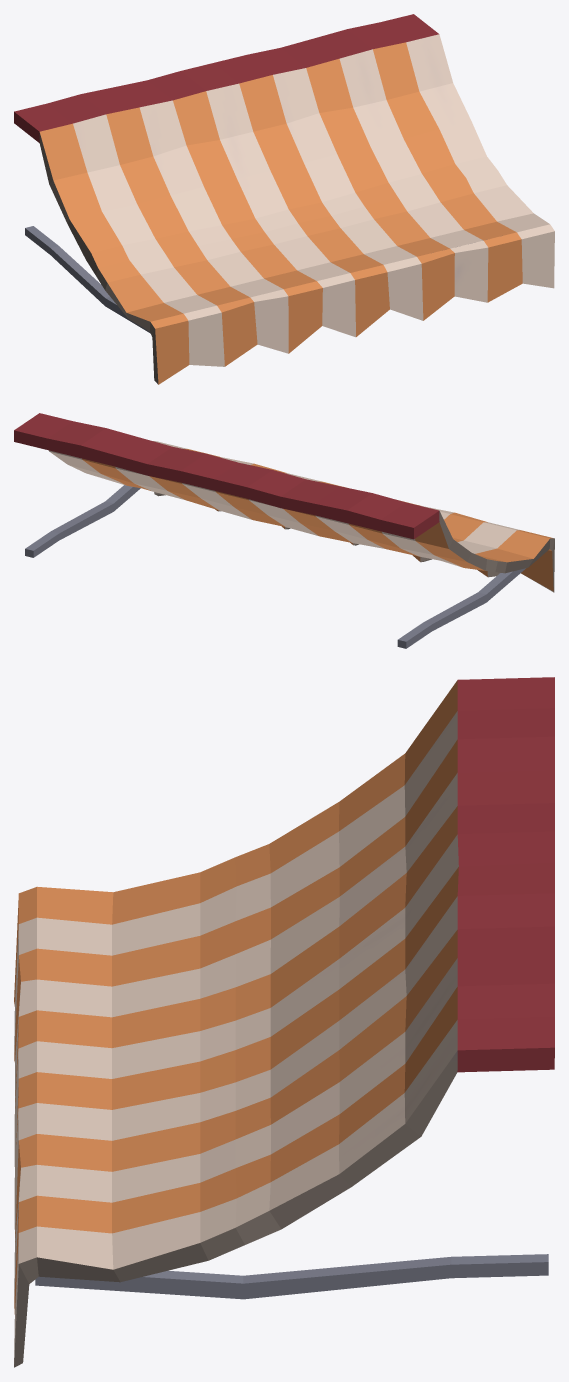
The model's file is storeFront.fbx.
3 renders of one model, top to bottom at view 1: azimuth 30°, elevation 25°; view 2: azimuth 150°, elevation 25°; view 3: azimuth 270°, elevation 25°, orthographic. The views are drawn at different scales.
Parts seen in each view (by area): view 1: Cube; view 2: Cube; view 3: Cube.
Part boxes in pixels (bbox=[...]): Cube: bbox=[14, 14, 554, 384]; Cube: bbox=[14, 413, 554, 648]; Cube: bbox=[14, 677, 554, 1367].
Size of the model in its own units: 12.46 by 7.55 by 5.02.
